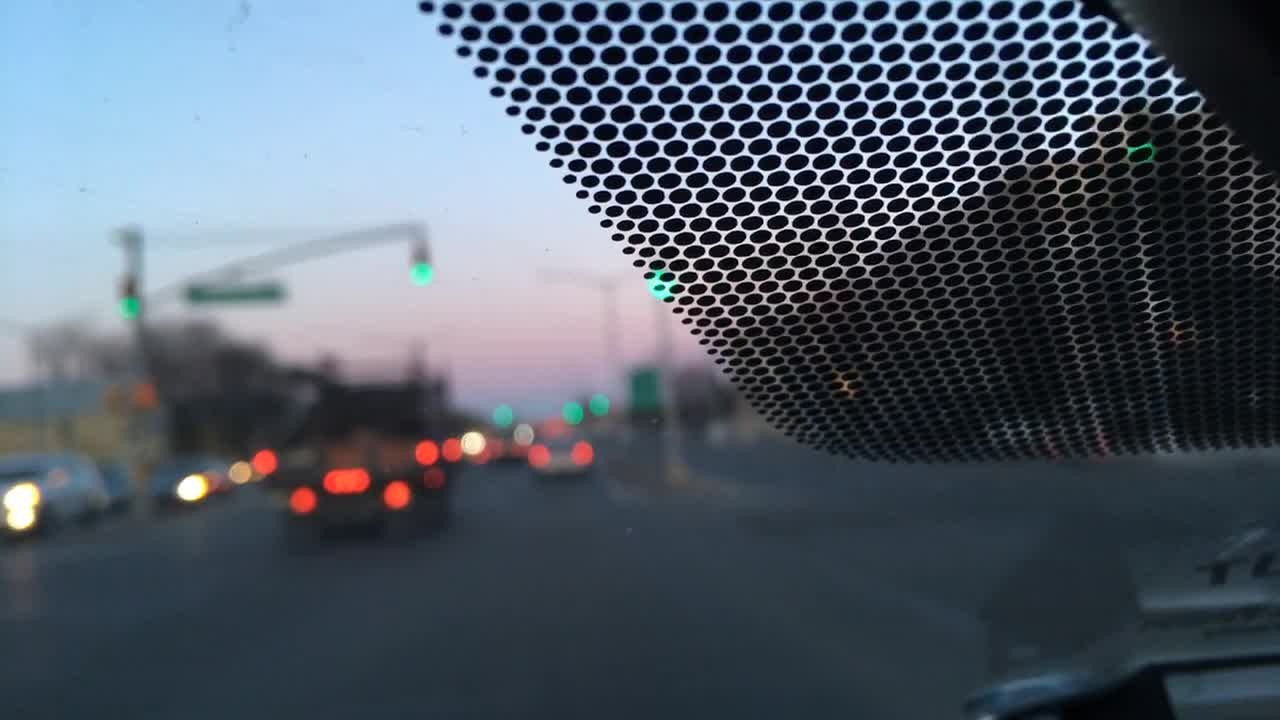car: (284, 429, 449, 539), (1, 454, 111, 539), (531, 422, 595, 479), (152, 458, 223, 505), (91, 459, 135, 518), (229, 449, 278, 484), (462, 431, 510, 464), (514, 433, 530, 461)
traffic light: (408, 239, 432, 290), (115, 281, 138, 326), (647, 272, 674, 297)
traffic sign: (183, 285, 282, 302)
